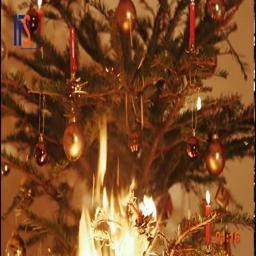fire: (73, 125, 153, 256)
